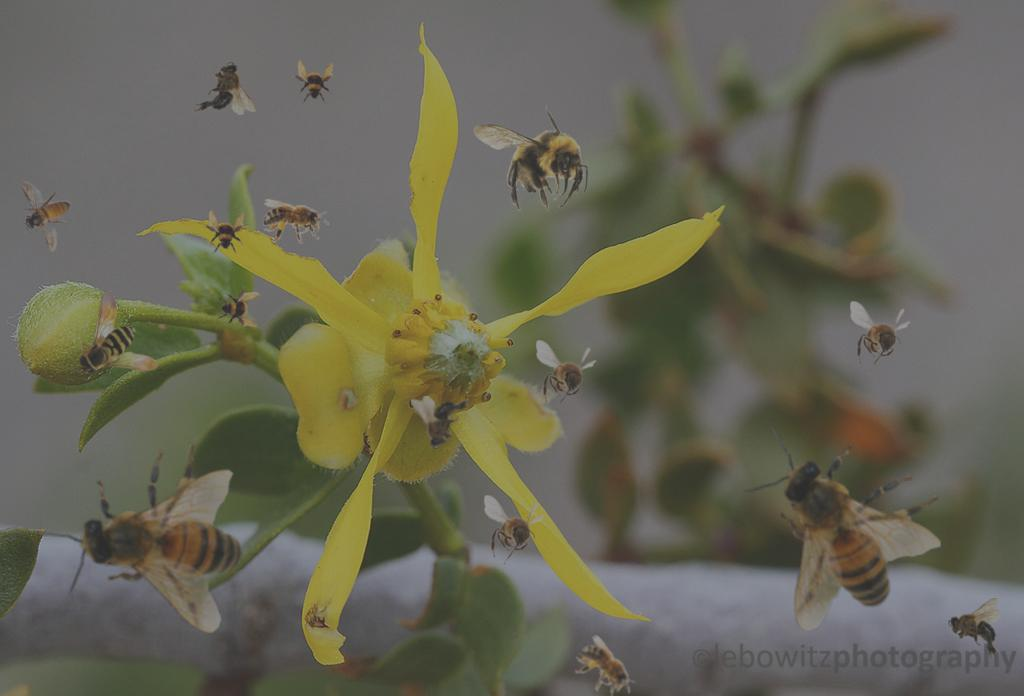Bee: (16, 398, 301, 682), (742, 427, 941, 631), (473, 105, 588, 212), (75, 287, 161, 379), (566, 632, 646, 696), (484, 495, 545, 565), (536, 340, 597, 410), (850, 301, 911, 371), (21, 181, 71, 252), (411, 396, 473, 449), (194, 62, 256, 115), (948, 598, 1001, 660), (263, 199, 329, 244), (291, 60, 335, 104), (202, 210, 246, 254), (216, 285, 260, 329)
